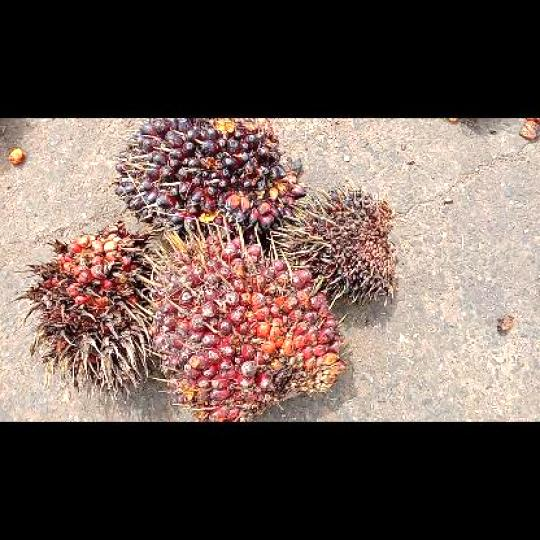kurang masak: (110, 117, 303, 236)
masak: (151, 226, 347, 420)
terlalu masak: (26, 222, 153, 393)
